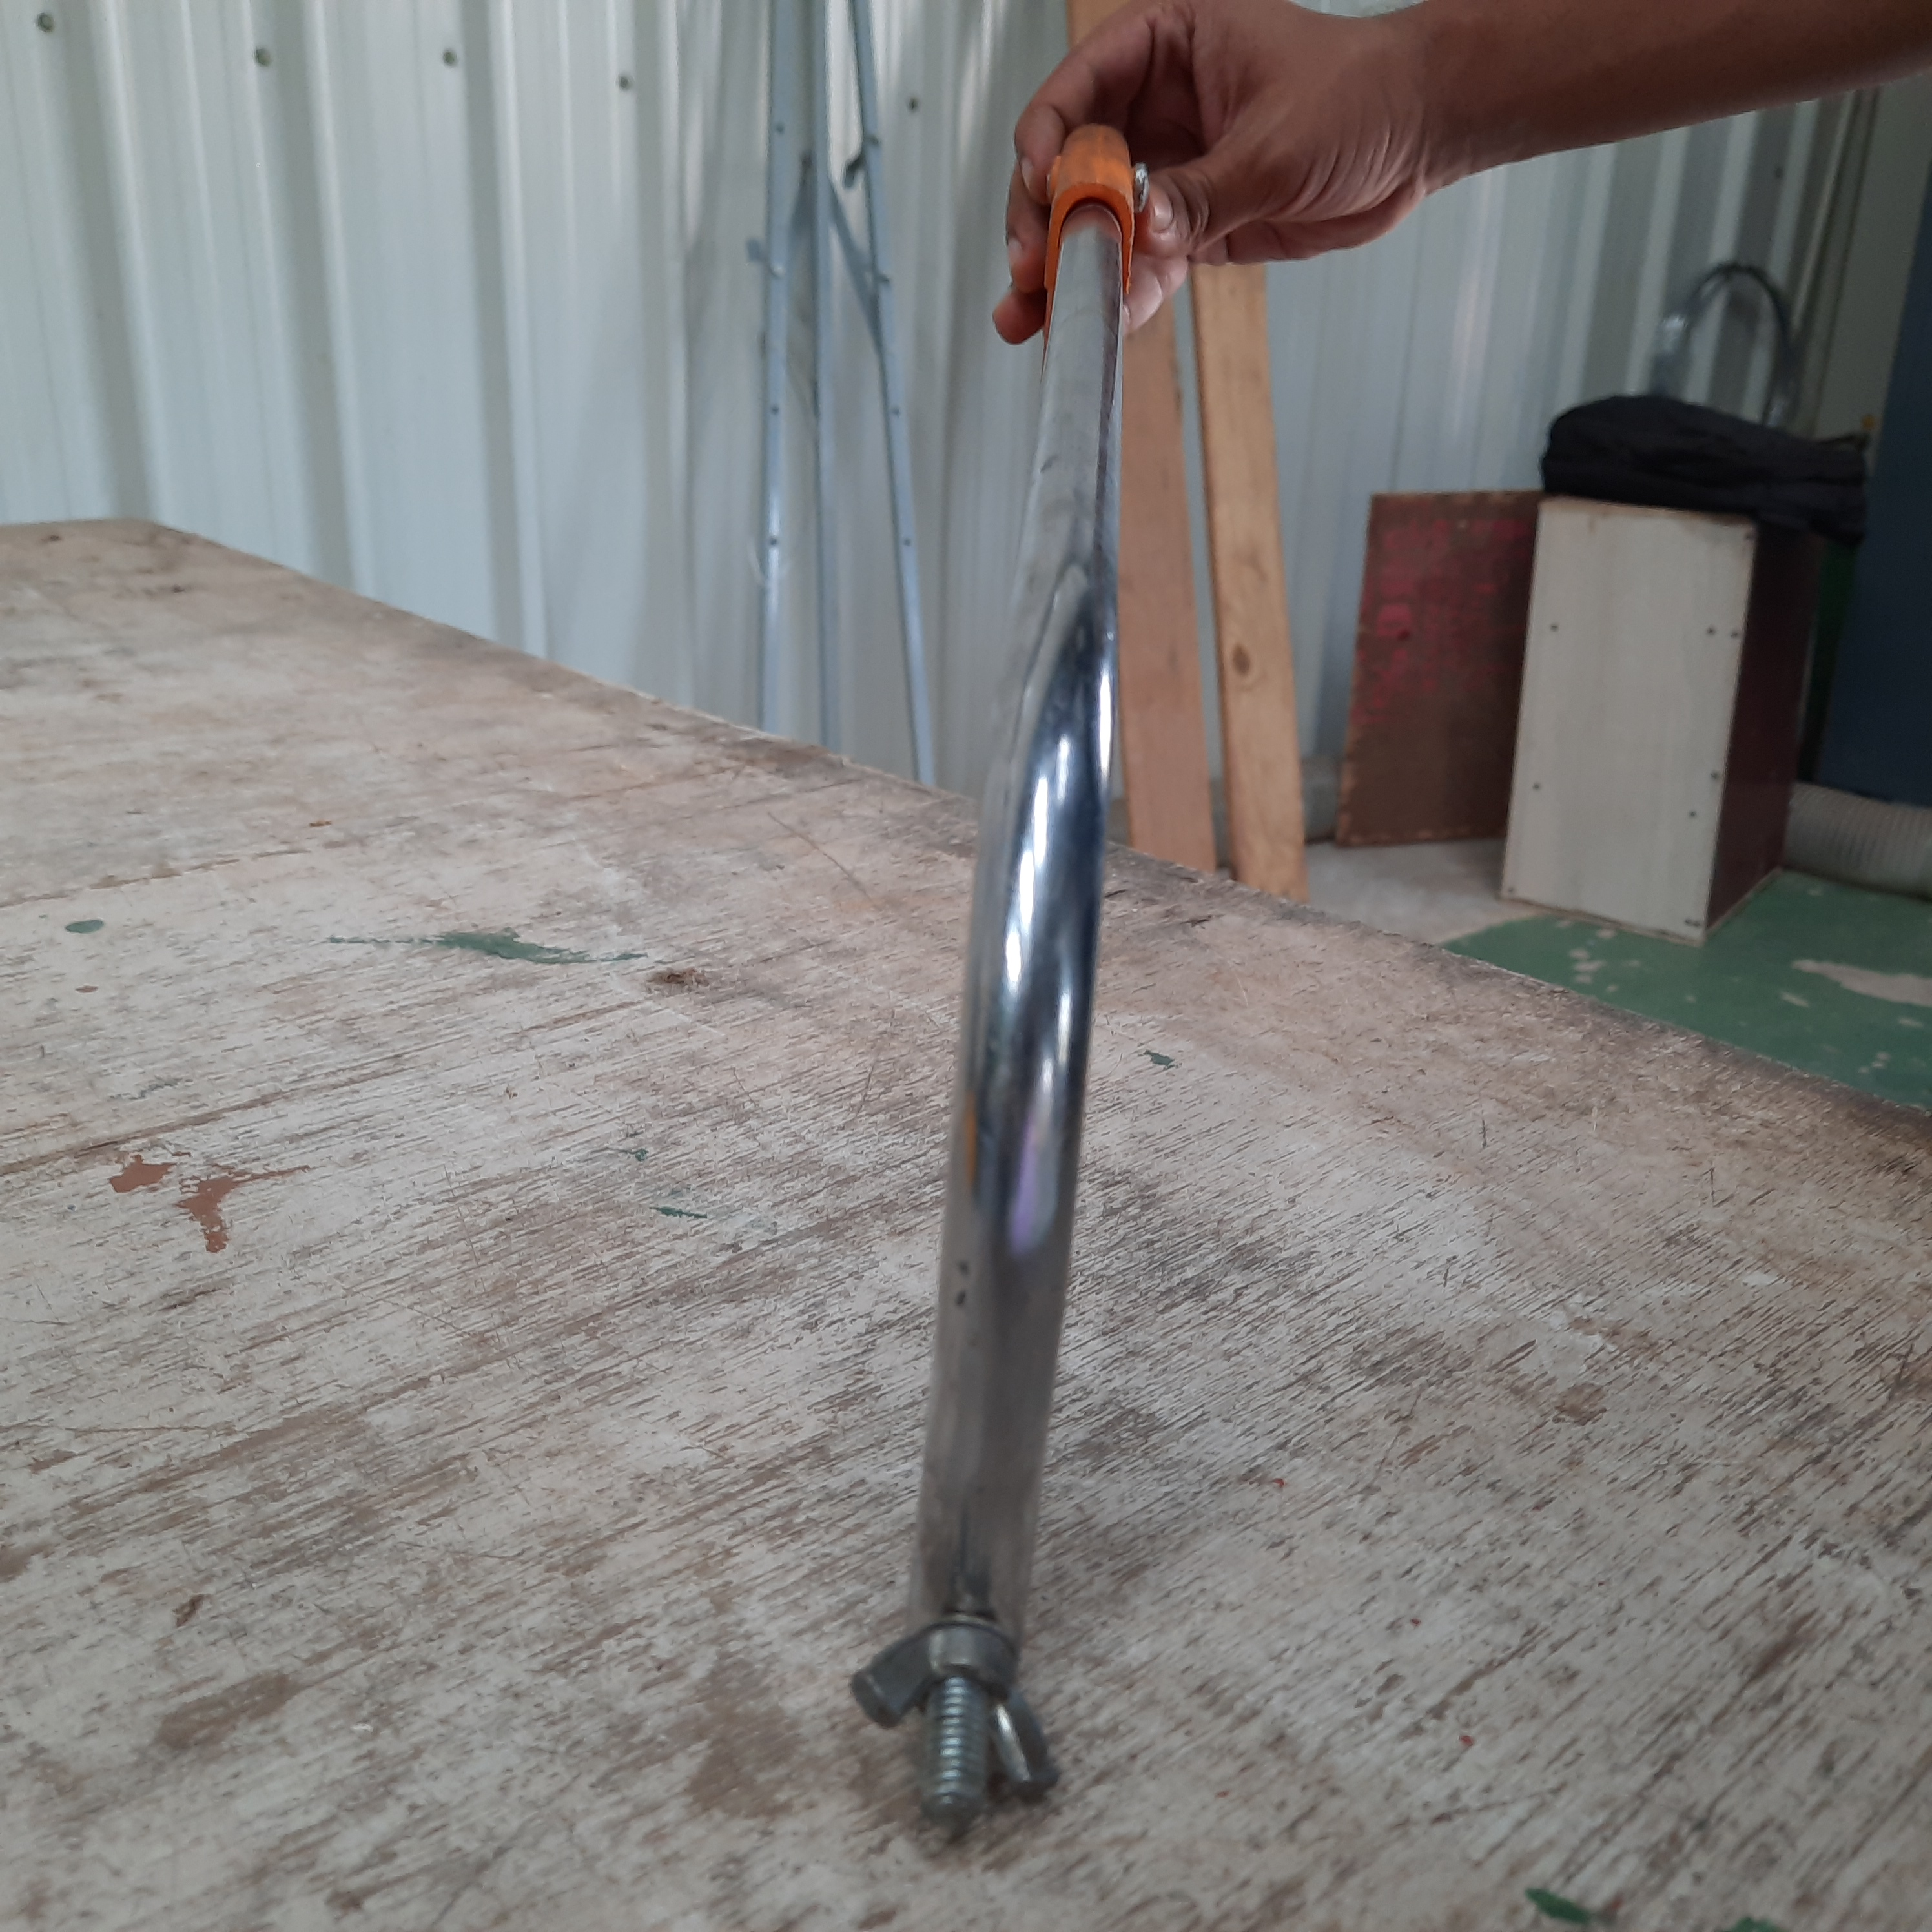Hexaframe: (814, 108, 1364, 1851)
